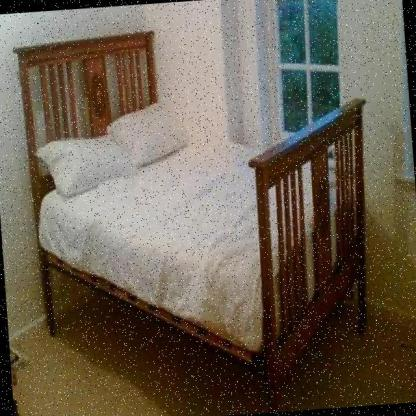Bed: (4, 13, 399, 416)
